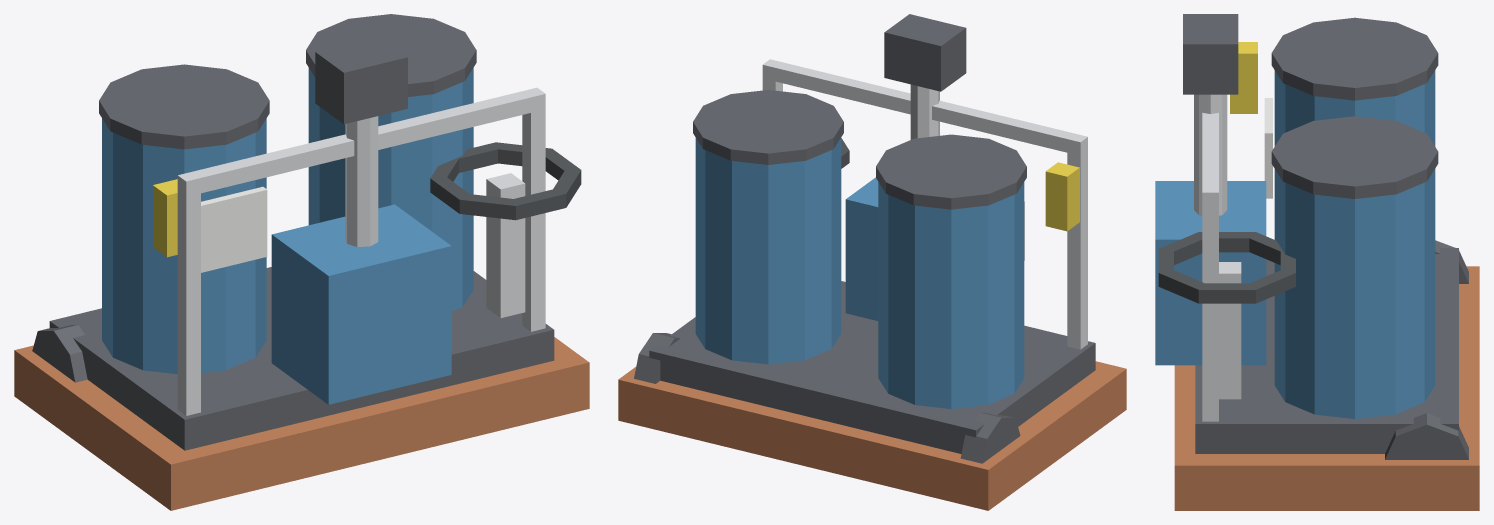
Rendered from shipyard-and-dry-dock-shipyard-and-dry-dock-paint-spra-bf2fe268__37949.glb.
3 renders of one model, left to right at view 1: azimuth 30°, elevation 25°; view 2: azimuth 150°, elevation 25°; view 3: azimuth 270°, elevation 25°, orthographic. The views are drawn at different scales.
Visible parts, largest first — view 1: shipyard-and-dry-dock-paint-spray-rig; view 2: shipyard-and-dry-dock-paint-spray-rig; view 3: shipyard-and-dry-dock-paint-spray-rig.
Boxes of the visible parts, x1,y1,x2,y2 form: shipyard-and-dry-dock-paint-spray-rig: [14, 14, 589, 510]; shipyard-and-dry-dock-paint-spray-rig: [618, 14, 1126, 510]; shipyard-and-dry-dock-paint-spray-rig: [1155, 14, 1479, 510].
Bounding box in the file's own units: 1.72 × 1.52 × 1.17.
